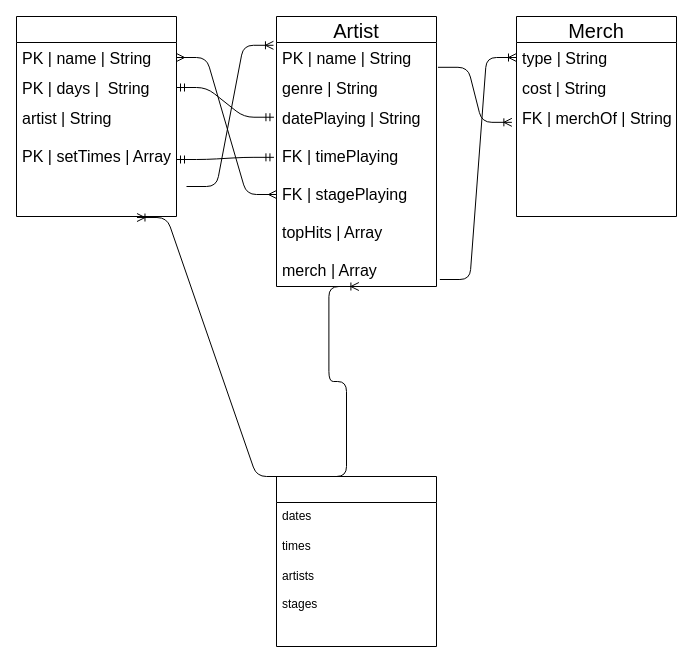
This 693x663 diagram has some shape labels left out. Each missing label, with the box of its shape:
Schedule????: (276, 476, 436, 646)
Stage: (16, 16, 176, 216)
